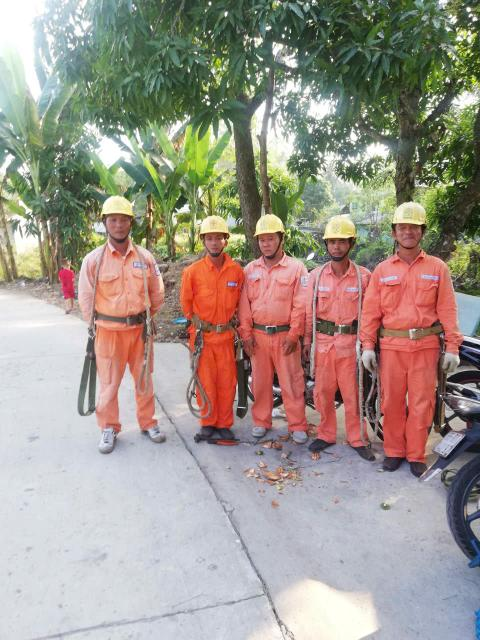gloves: (438, 345, 462, 379), (355, 353, 381, 375)
harness: (85, 305, 155, 333), (186, 308, 243, 337), (369, 322, 454, 341), (308, 313, 357, 337), (240, 313, 295, 334)
helmet: (100, 186, 139, 225), (243, 210, 290, 239), (388, 200, 435, 229), (194, 210, 235, 239), (321, 219, 361, 244)
shoes: (127, 417, 177, 447), (86, 422, 126, 458), (370, 445, 404, 473), (304, 431, 336, 460), (347, 437, 378, 464), (215, 423, 238, 446), (287, 422, 310, 444), (249, 412, 267, 440), (407, 459, 430, 478), (192, 422, 214, 441)
